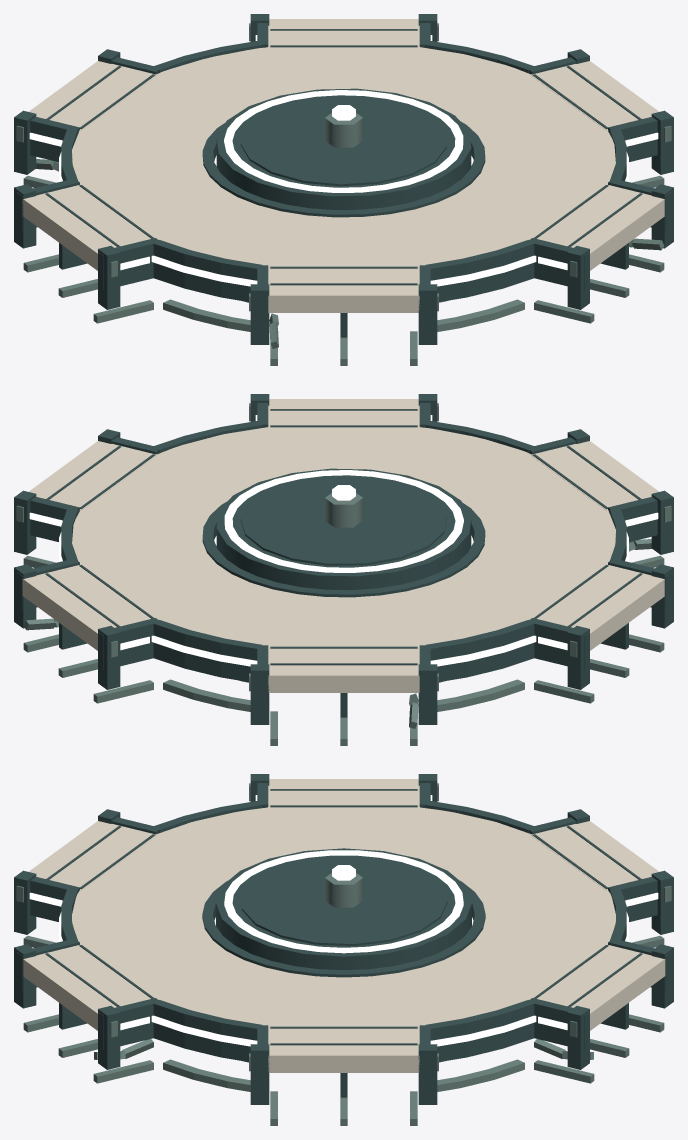
The model's file is Round_6_lab.glb.
3 renders of one model, top to bottom at view 1: azimuth 30°, elevation 25°; view 2: azimuth 150°, elevation 25°; view 3: azimuth 270°, elevation 25°, orthographic.
Parts seen in each view (by area): view 1: Round_6; view 2: Round_6; view 3: Round_6.
Part boxes in pixels (x1=…): Round_6: x1=14, y1=14, x2=673, y2=365; Round_6: x1=14, y1=394, x2=673, y2=745; Round_6: x1=14, y1=774, x2=673, y2=1125.
Size of the model in its own units: 12.02 by 2.39 by 12.1.
